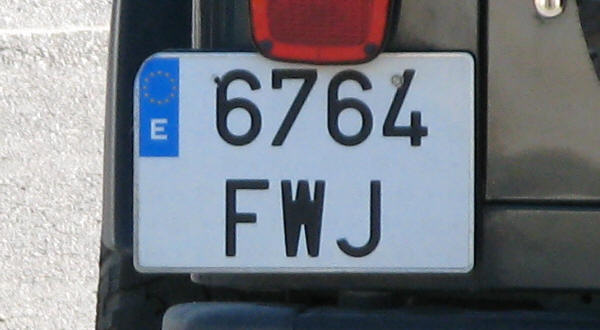license_plate: (131, 54, 475, 273)
